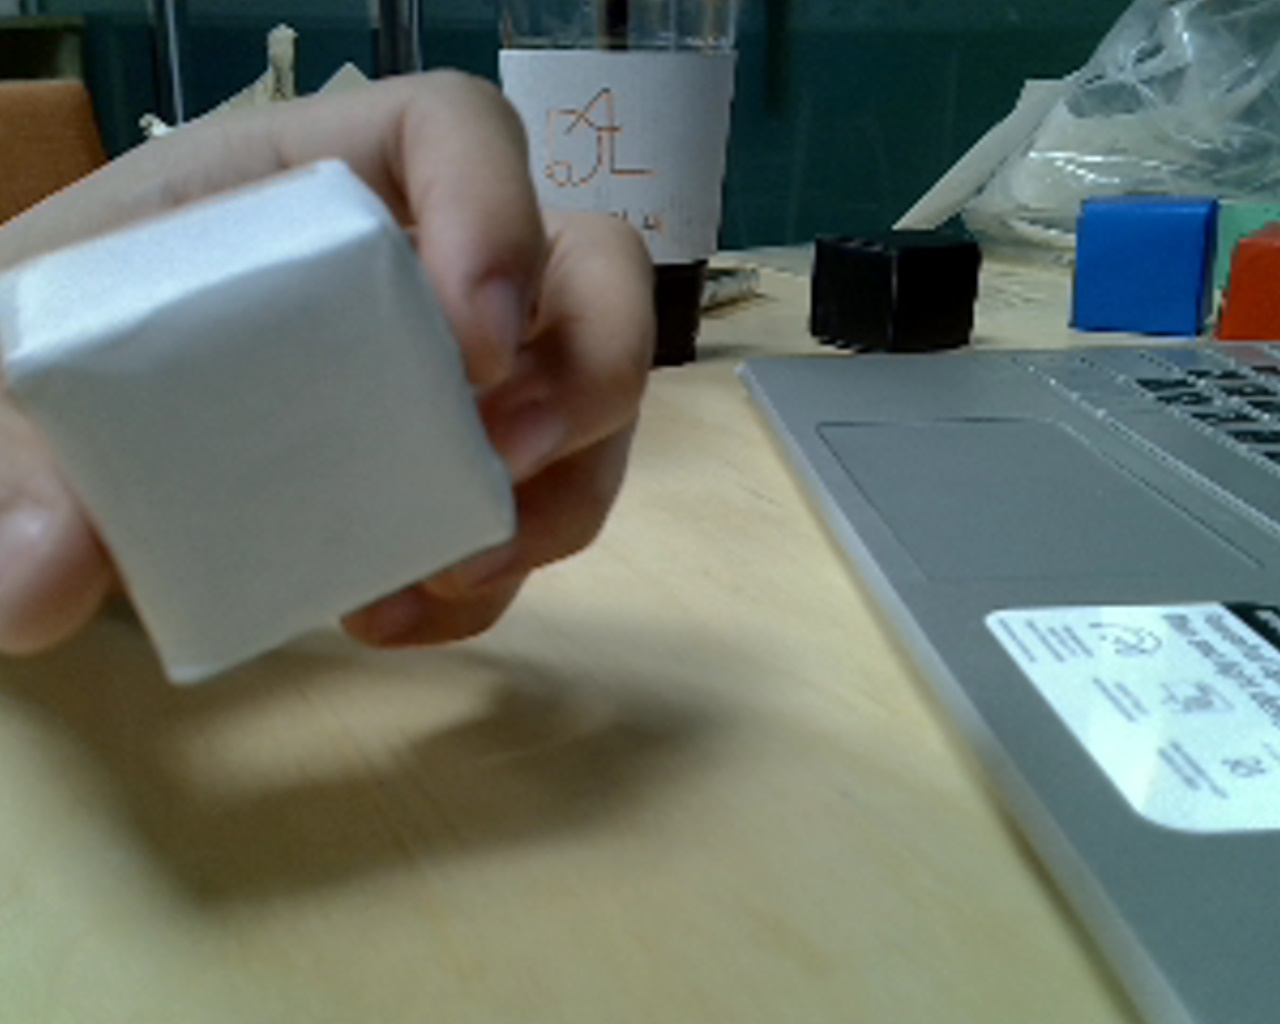whitebox: (3, 152, 550, 709)
